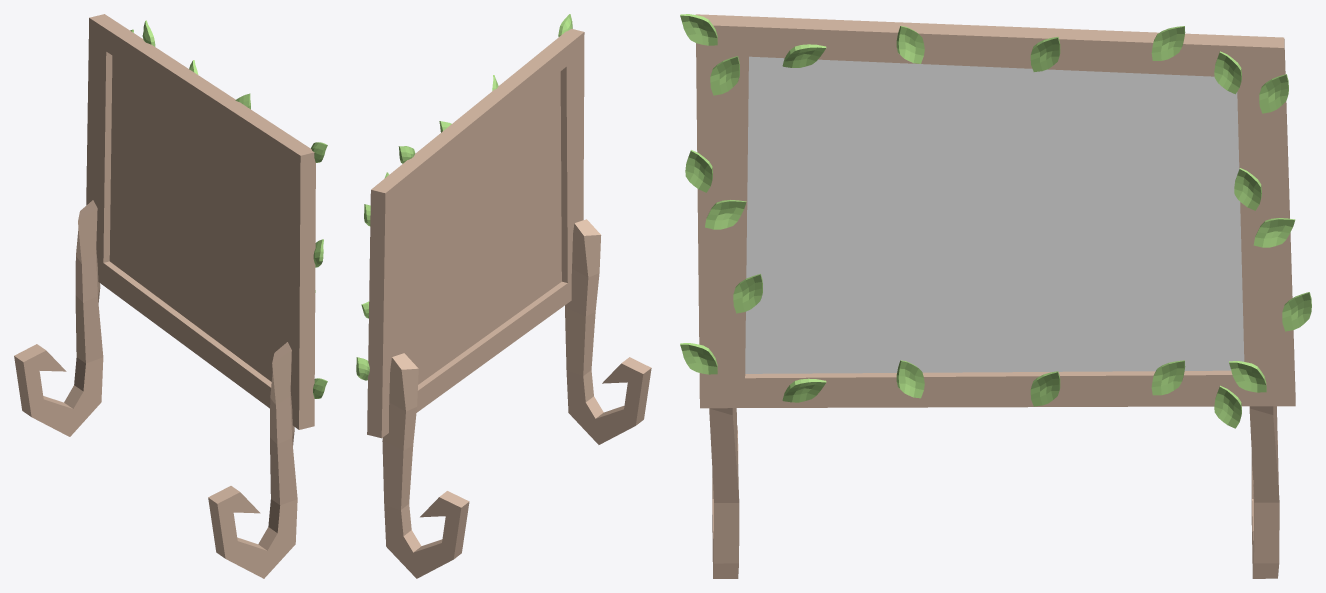
File: auftrag.fbx
3 views of the same model, side by side, from view 1: azimuth 30°, elevation 25°; view 2: azimuth 150°, elevation 25°; view 3: azimuth 270°, elevation 25° (orthographic). The views are drawn at different scales.
Visible parts, largest first — view 1: Cube.028; view 2: Cube.028; view 3: Cube.028.
Part boxes in pixels (x1,y1,x2,y2): Cube.028: (14, 14, 327, 578); Cube.028: (356, 14, 651, 578); Cube.028: (680, 14, 1311, 578).
Bounding box in the file's own units: 99.72 × 402 × 384.
